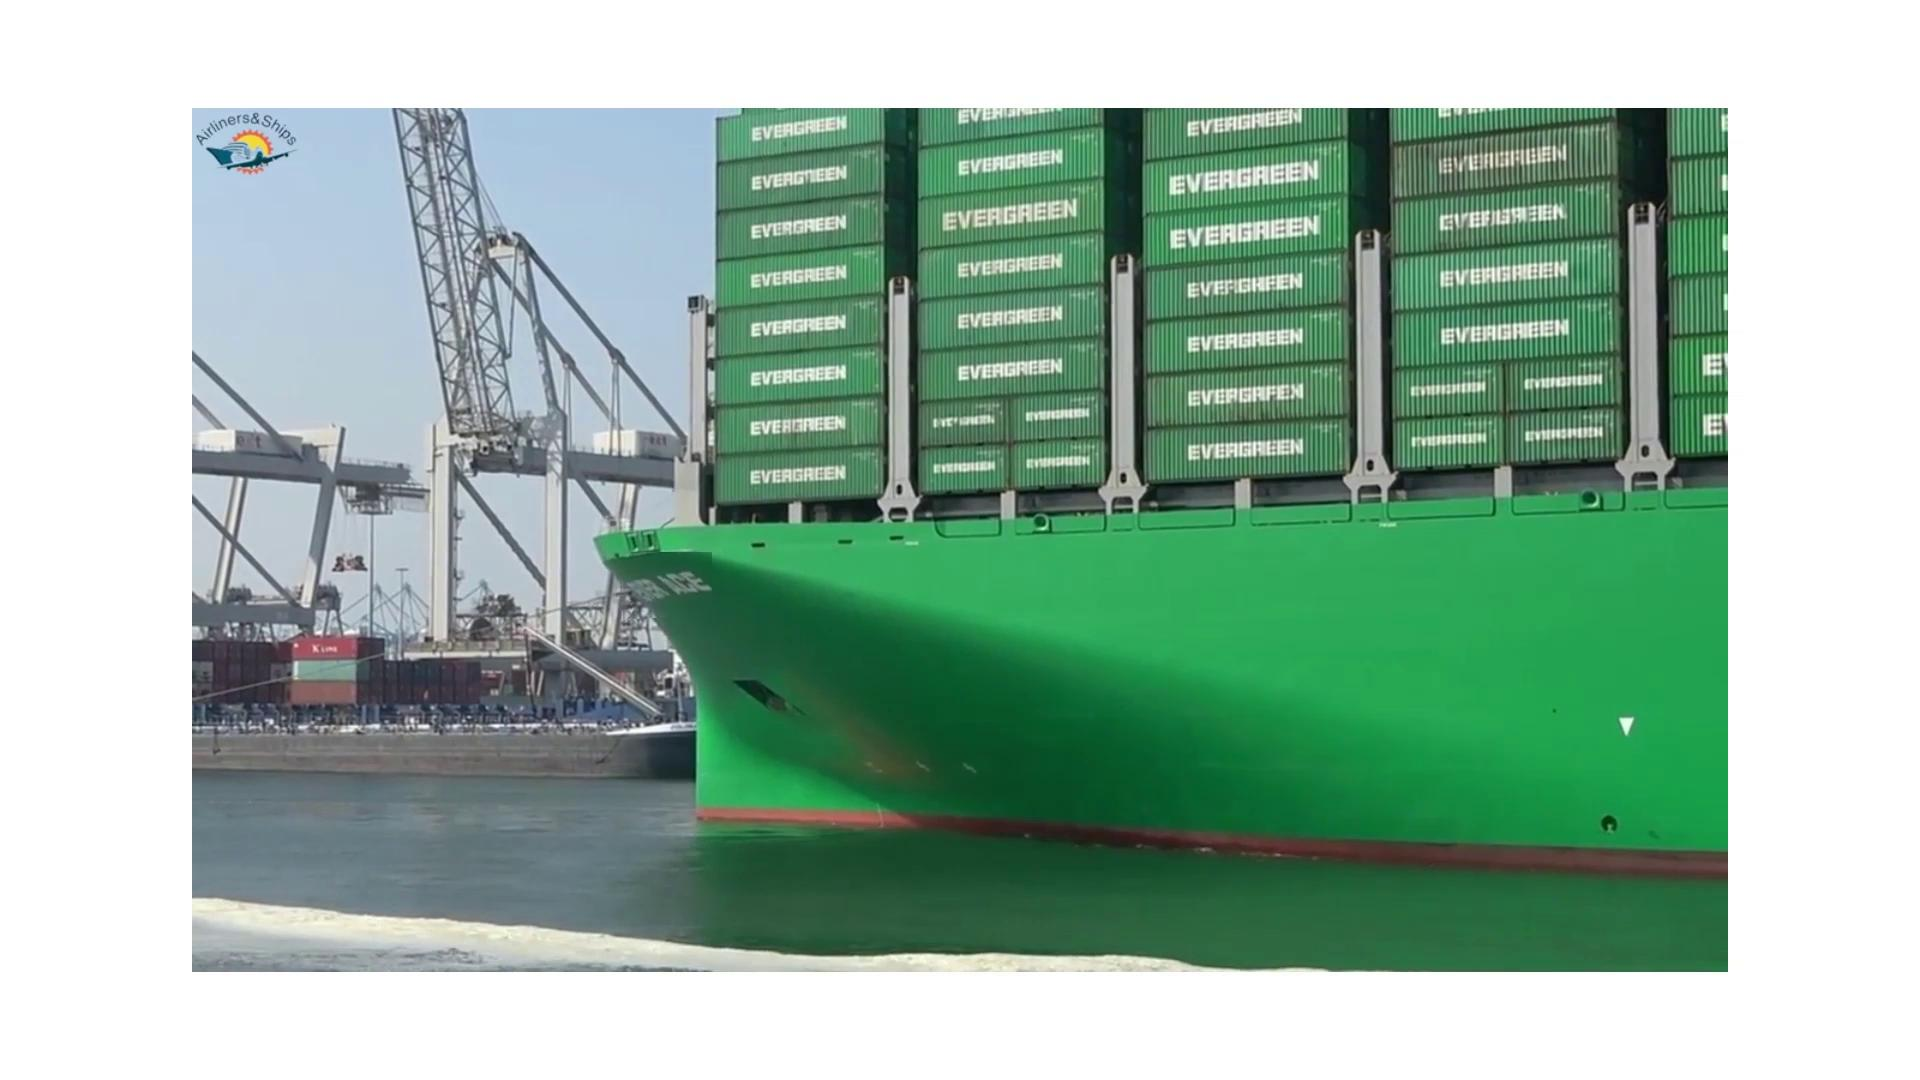OCR: (620, 551, 712, 620)
